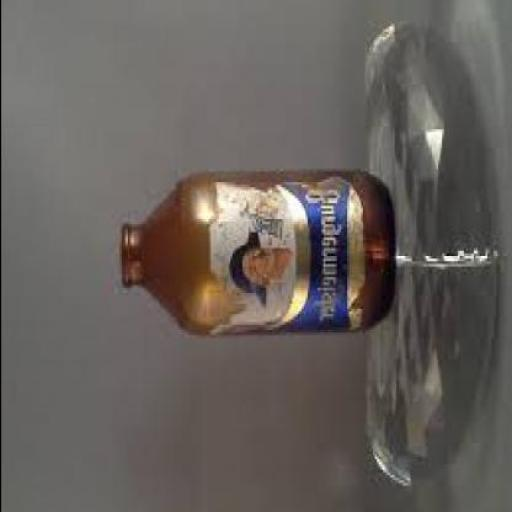glass: (360, 15, 490, 483), (116, 172, 390, 338)
